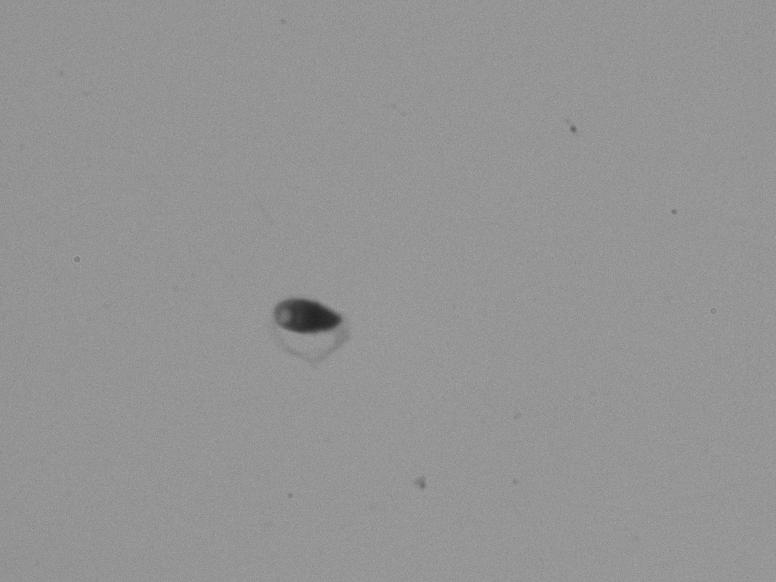Abnormal: (223, 234, 393, 404)
